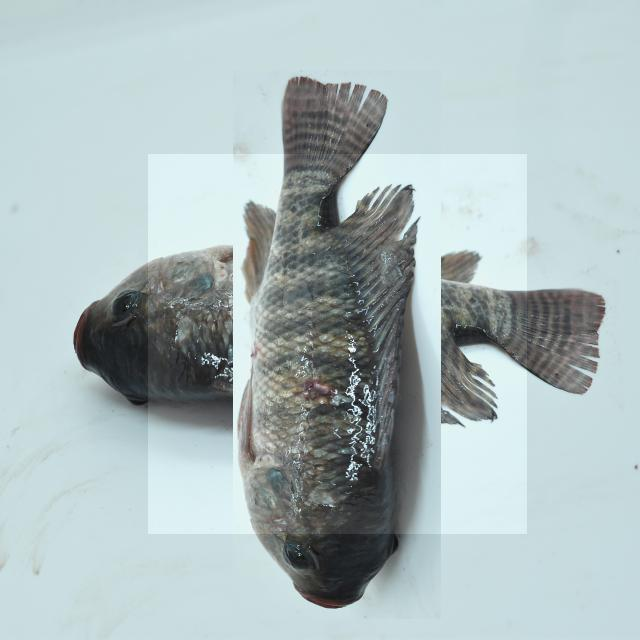Columnaris Disease: (148, 154, 527, 534)
